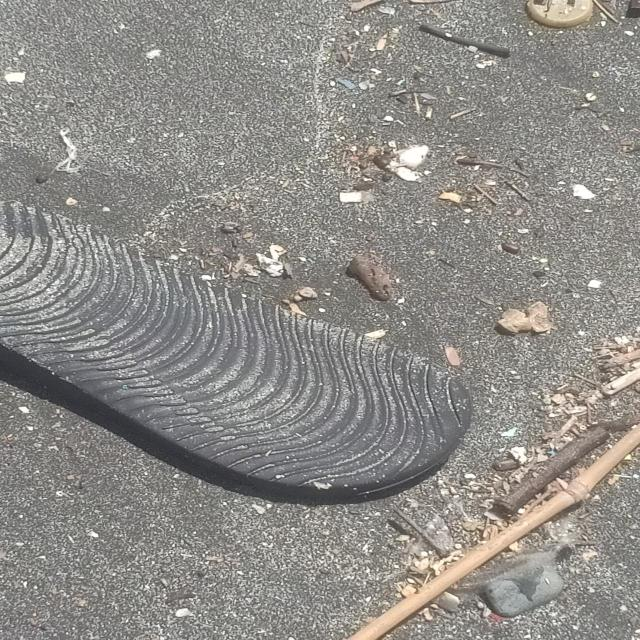rubber_waste: (1, 206, 474, 501)
